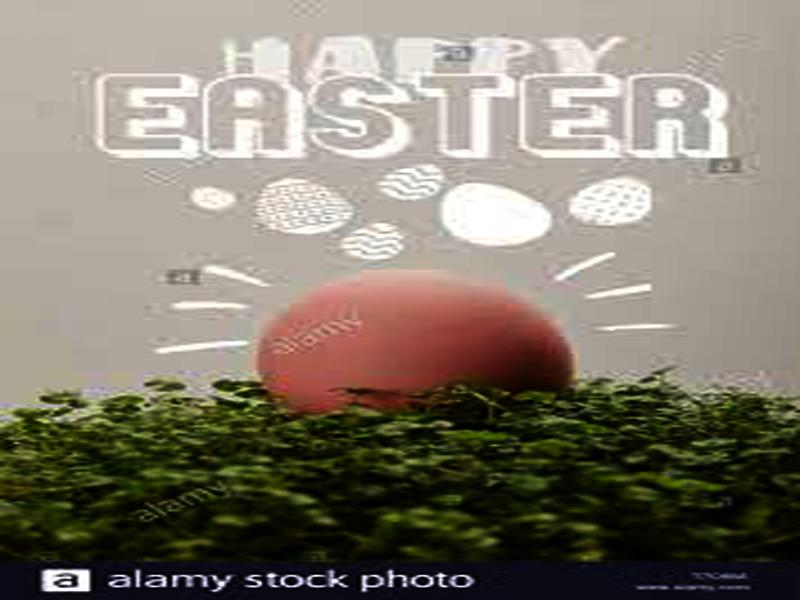Eggs: (262, 272, 579, 415)
